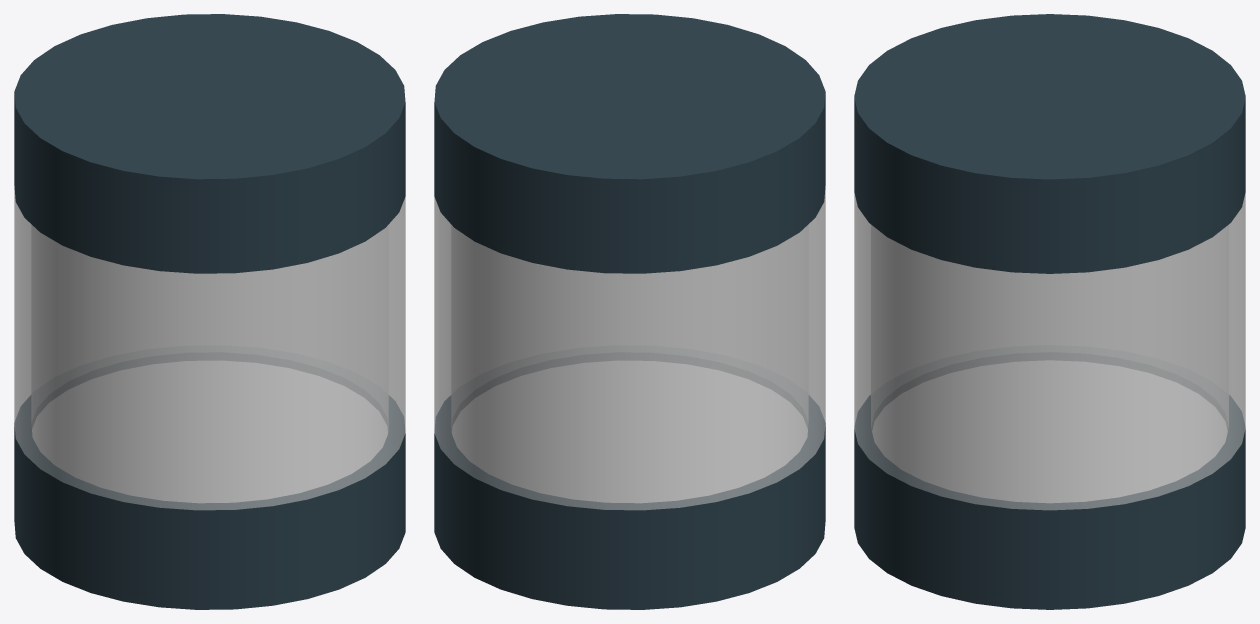
3 renders of one model, left to right at view 1: azimuth 30°, elevation 25°; view 2: azimuth 150°, elevation 25°; view 3: azimuth 270°, elevation 25°, orthographic.
Visible parts, largest first — view 1: base_base, base_glass; view 2: base_base, base_glass; view 3: base_base, base_glass.
Part boxes in pixels (x1,y1,x2,y2): base_base: (14, 14, 405, 609); base_glass: (14, 186, 405, 510); base_base: (434, 14, 825, 609); base_glass: (434, 186, 825, 510); base_base: (854, 14, 1245, 609); base_glass: (854, 193, 1245, 510).
Size of the model in its own units: 300 by 364 by 300.
